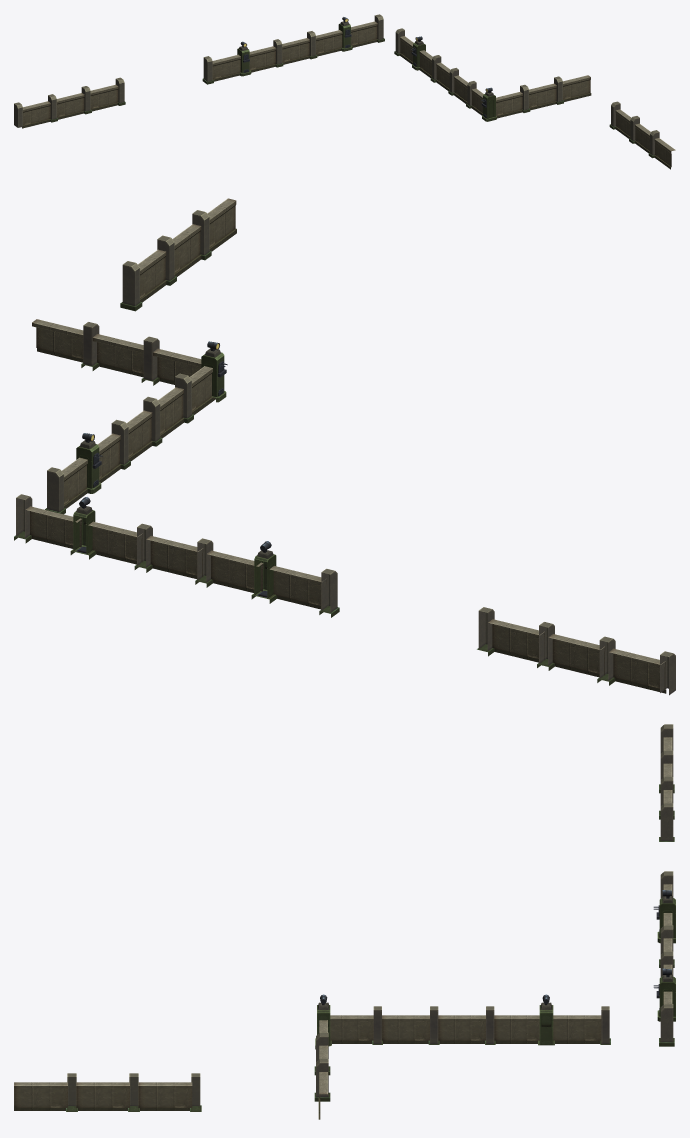
File: bianqiang_01.FBX
The picture shows the model from 3 angles, top to bottom: view 1: azimuth 30°, elevation 25°; view 2: azimuth 150°, elevation 25°; view 3: azimuth 270°, elevation 25°; orthographic projection. The views are drawn at different scales.
Parts seen in each view (by area): view 1: bianqiang_01; view 2: bianqiang_01; view 3: bianqiang_01.
Boxes of the visible parts, x1,y1,x2,y2 form: bianqiang_01: [14, 14, 675, 169]; bianqiang_01: [14, 198, 675, 695]; bianqiang_01: [14, 724, 675, 1119].
Size of the model in its own units: 13896 by 10770 by 885.
1 material, 1 textured.
